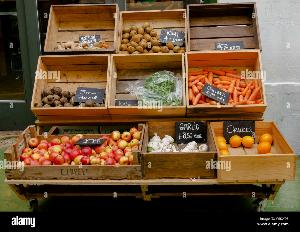apple: (16, 123, 144, 165)
carrot: (186, 54, 266, 106)
garlic: (142, 124, 214, 170)
kiwi: (117, 3, 188, 53)
orange: (212, 120, 294, 170)
